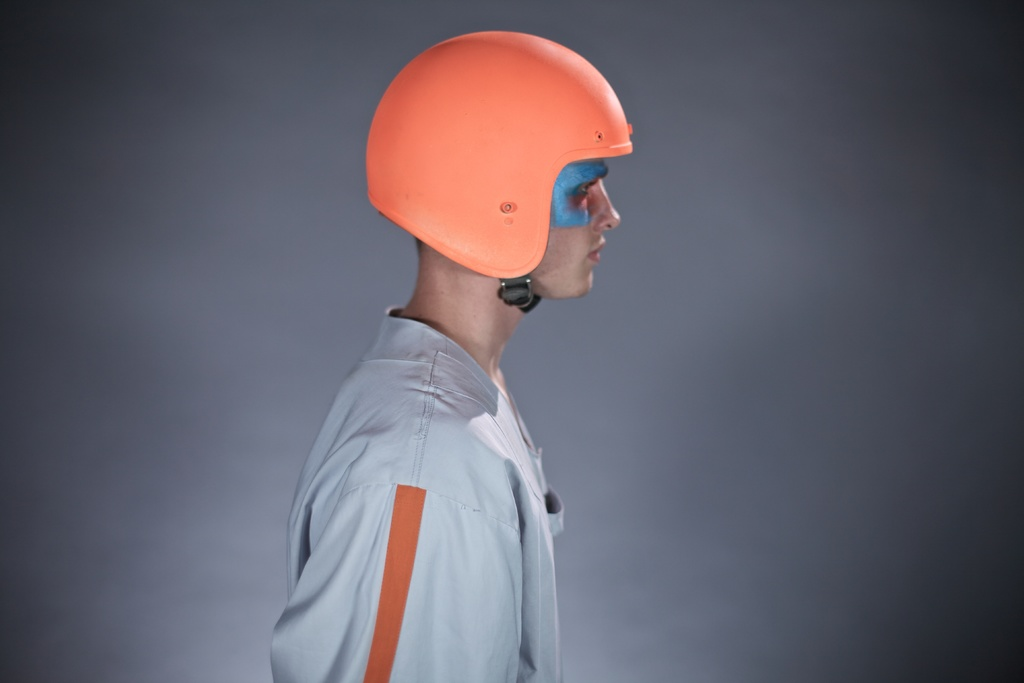Person: (264, 29, 633, 682)
